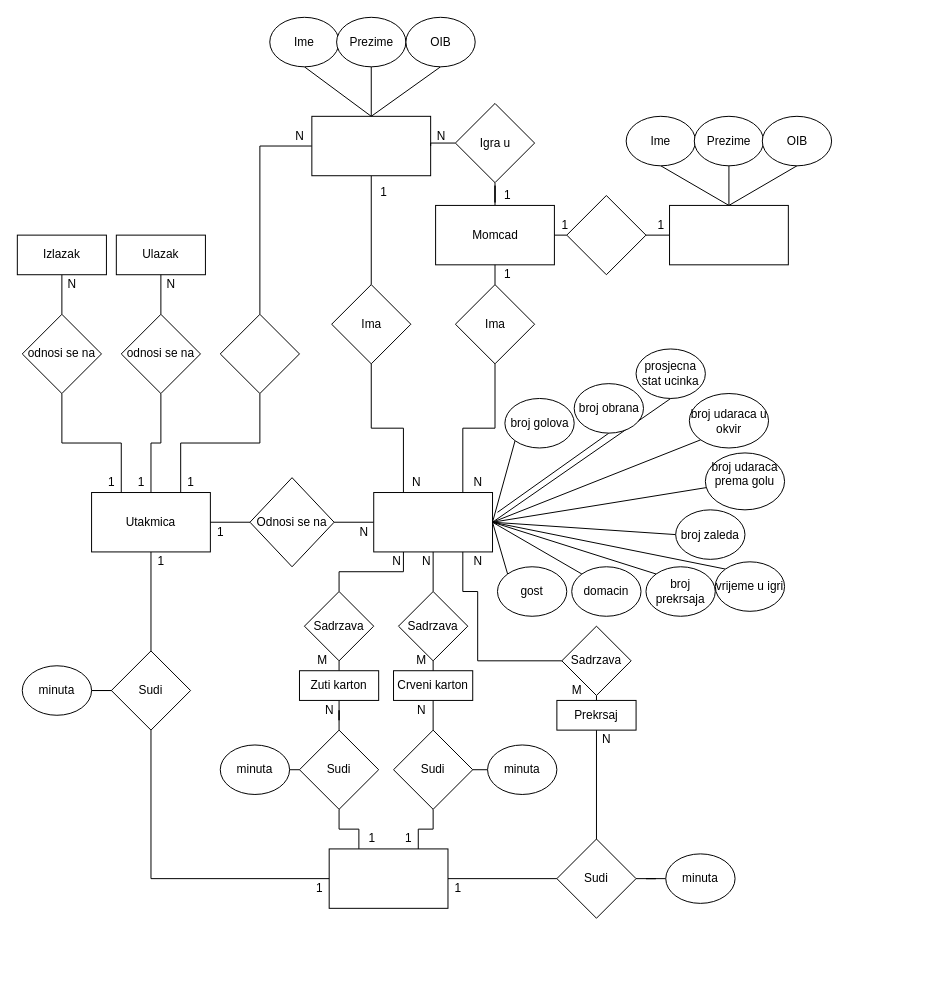
Image size: 929x993. Some labels were removed from this diagram. Here are the shapes that lost their labels. From the top down, the centre of each, then its label:
(371,145): Igrac
(606,235): Trenira
(728,234): Trener
(259,353): Igra
(433,522): Statistika
(388,878): Sudac
